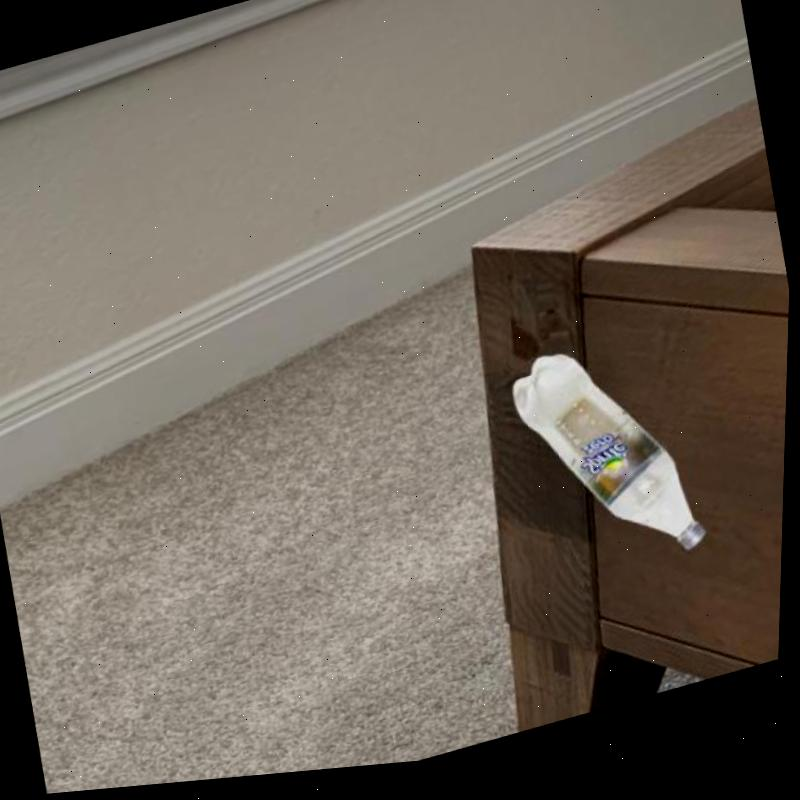botella: (500, 320, 720, 611)
